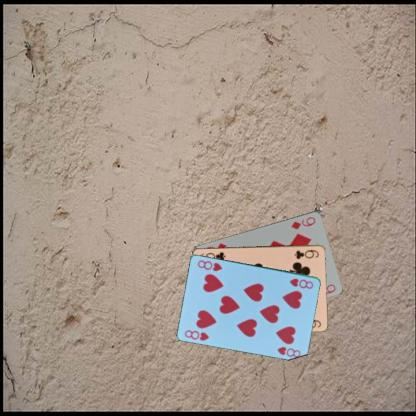6c: (292, 247, 320, 260)
8h: (182, 327, 211, 342), (287, 276, 314, 290)
9d: (288, 214, 317, 230)
